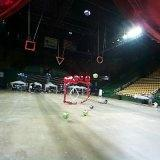Green_Balloon: (63, 112, 70, 120), (83, 110, 89, 116), (93, 72, 98, 79)
Orange_Circle_GShape: (96, 56, 104, 64)
Orange_Square_GShape: (24, 40, 36, 51)
Orange_Triangle_Gshape: (56, 56, 64, 65)
Purple_Balloon: (84, 10, 90, 16), (90, 105, 94, 110)
